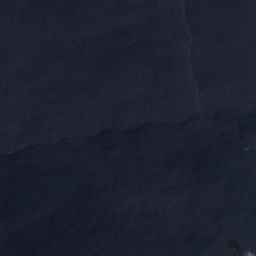Marine Debris: (6, 141, 45, 155)
